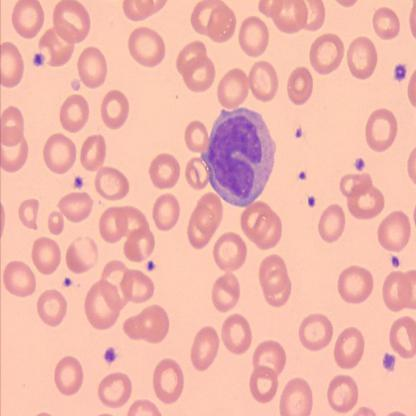Monocyte: (199, 105, 278, 209)
